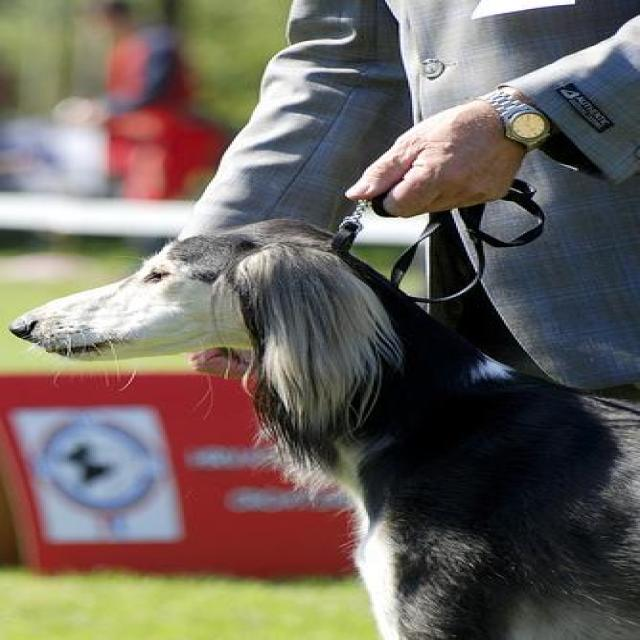saluki: (11, 218, 634, 638)
